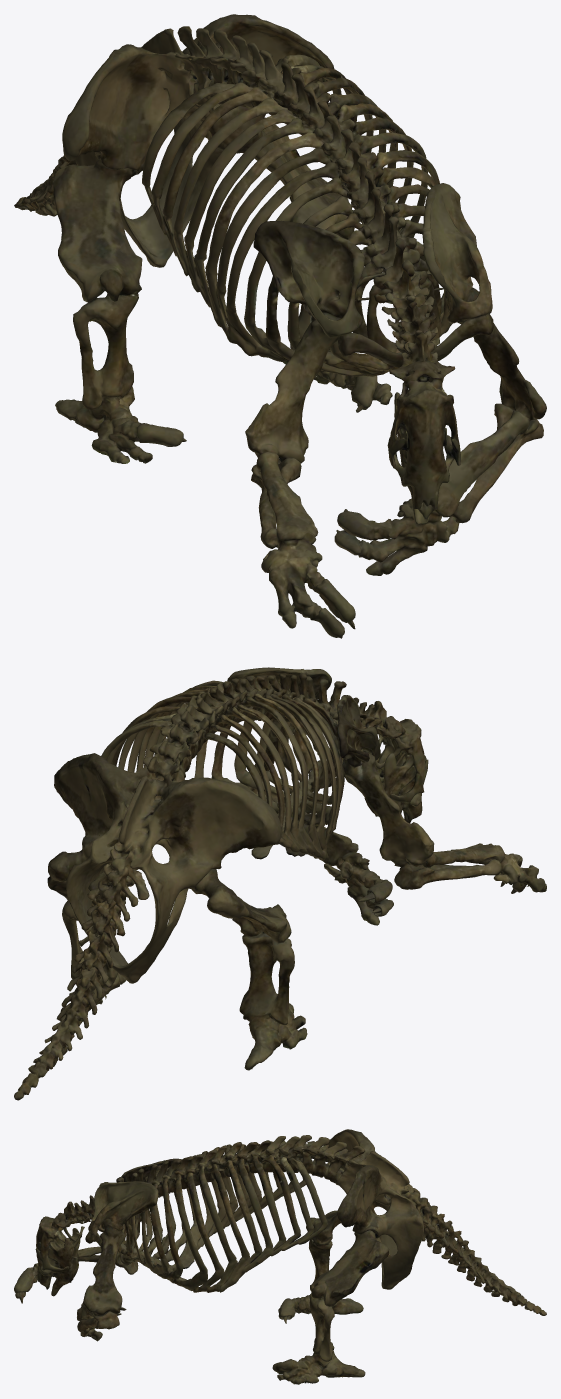
Rendered from eremotherium_laurillardi-150k-2048-medium-100k-2048_std_draco.glb.
3 views of the same model, one above another, from view 1: azimuth 30°, elevation 25°; view 2: azimuth 150°, elevation 25°; view 3: azimuth 270°, elevation 25° (orthographic). The views are drawn at different scales.
Bounding box in the file's own units: 1.78 × 1.94 × 4.34.
1 material, 1 textured.
